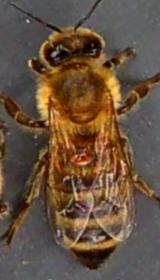varroa_mite: (61, 142, 96, 168)
